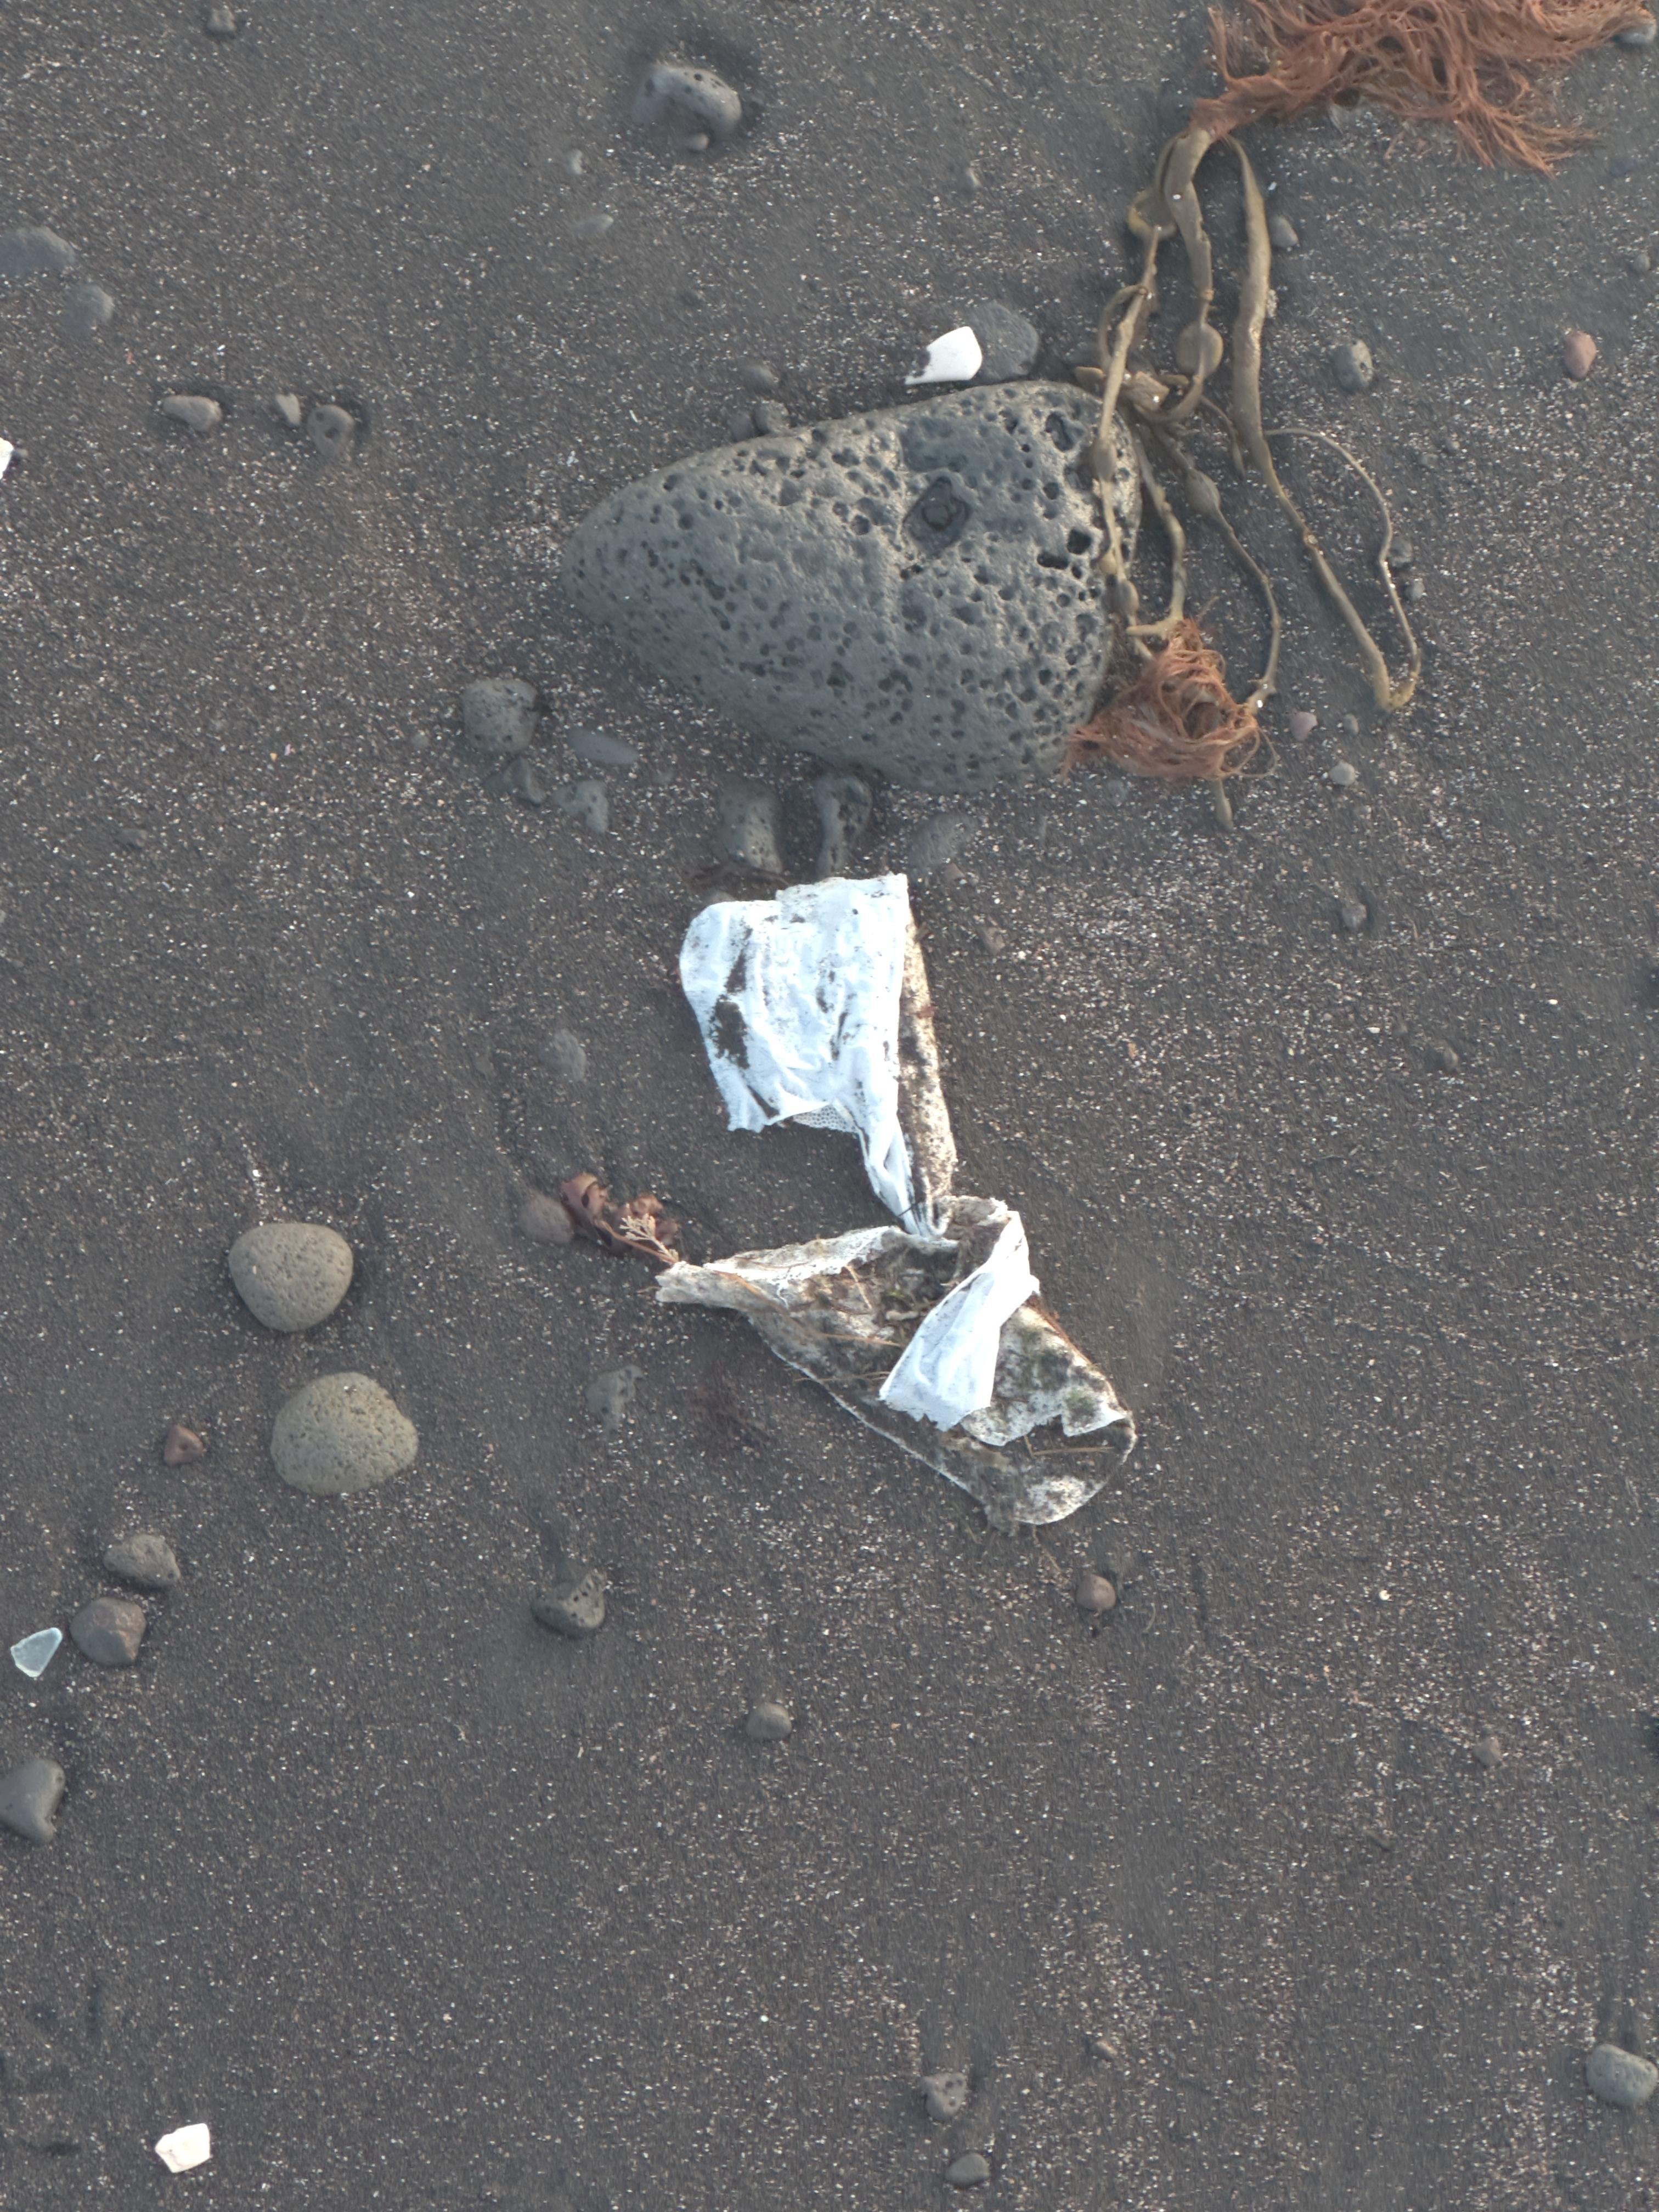trash: (660, 878, 1127, 1456), (903, 1439, 1101, 1521), (730, 1033, 742, 1045)
